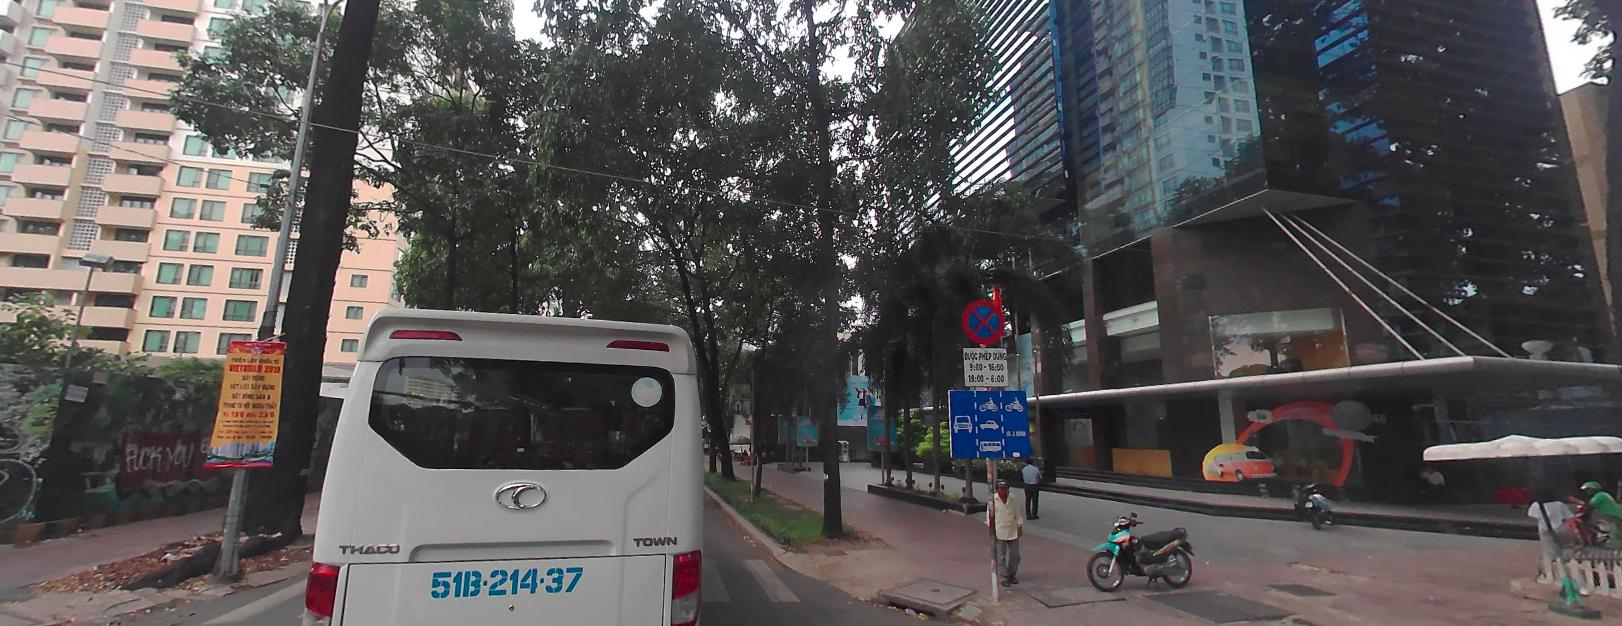Cam dung va do: (961, 300, 1005, 342)
